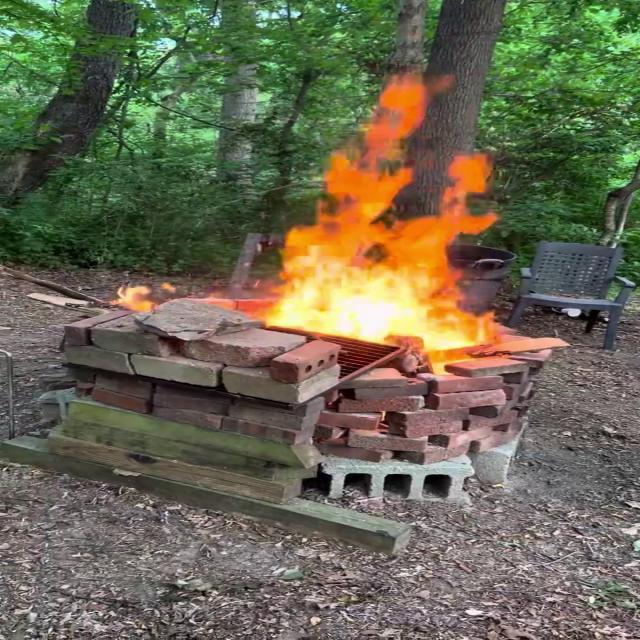Fire: (248, 69, 518, 369), (110, 278, 182, 316)
